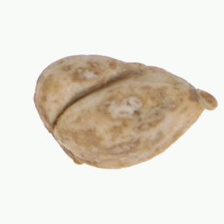L1: (35, 107, 78, 164), (187, 80, 220, 113)
L2: (33, 53, 218, 169)
